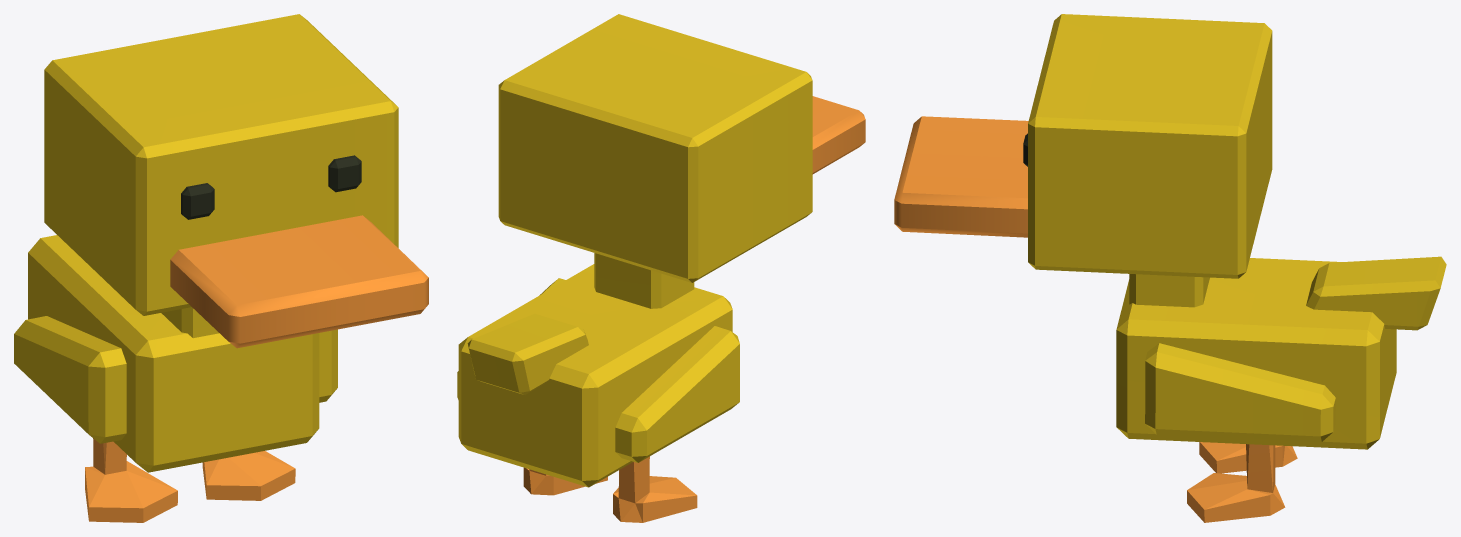
Rendered from Duck_2.fbx.
The picture shows the model from 3 angles, left to right: view 1: azimuth 30°, elevation 25°; view 2: azimuth 150°, elevation 25°; view 3: azimuth 270°, elevation 25°; orthographic projection. The views are drawn at different scales.
Visible parts, largest first — view 1: Duck_2; view 2: Duck_2; view 3: Duck_2.
Part boxes in pixels (x1,y1,x2,y2): Duck_2: (14, 14, 428, 522); Duck_2: (457, 14, 865, 522); Duck_2: (894, 14, 1446, 522).
Bounding box in the file's own units: 20.97 × 33.31 × 40.96.
